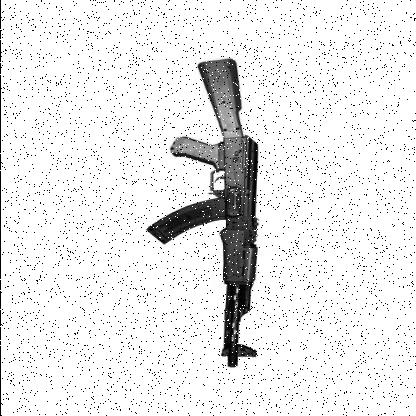rifle: (137, 55, 279, 375)
